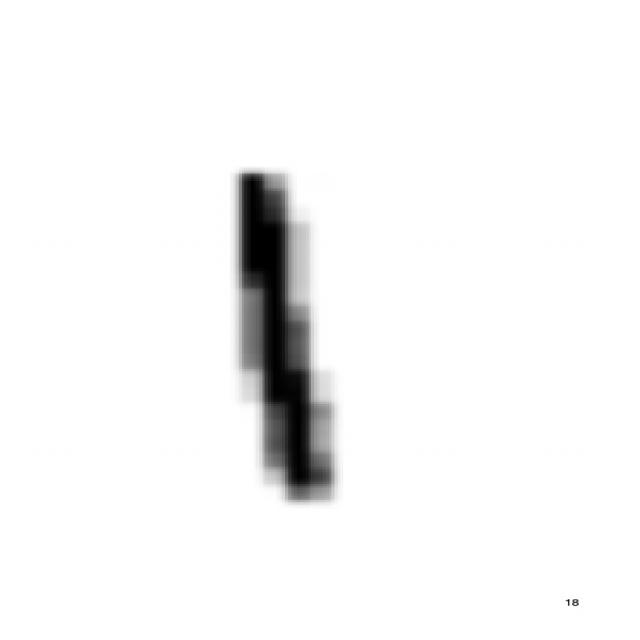1 -one-: (207, 156, 348, 517)
